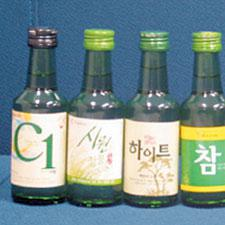soju: (10, 22, 225, 210)
